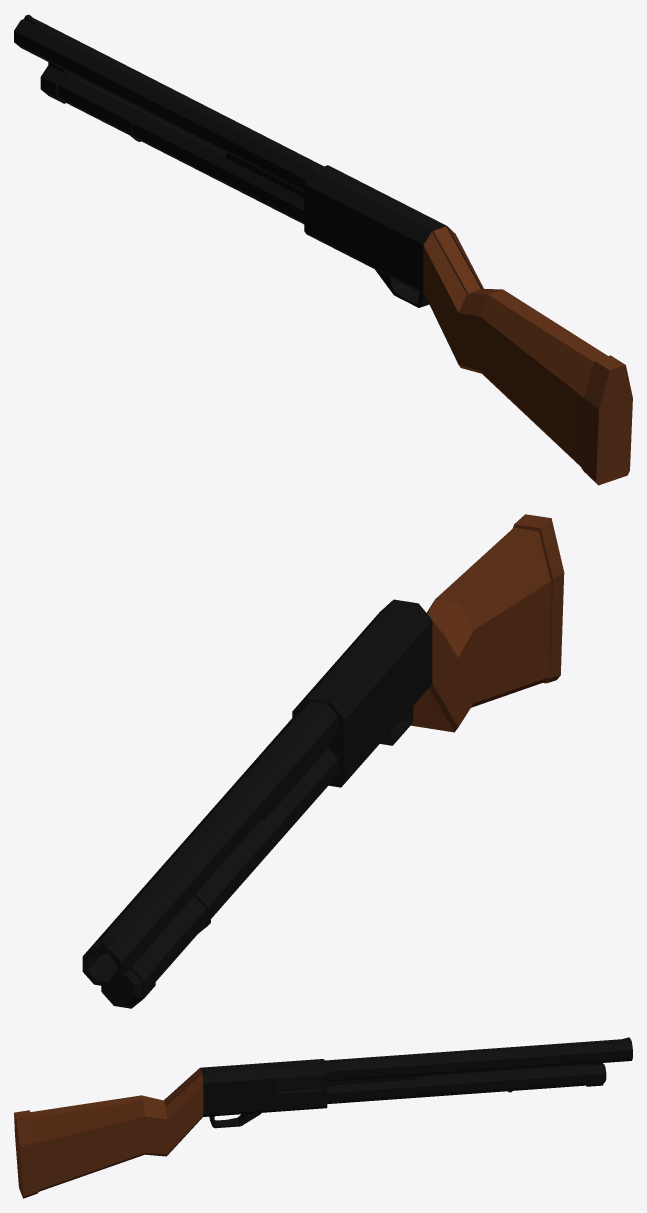
File: SHOTGUN.obj
3 views of the same model, one above another, from view 1: azimuth 30°, elevation 25°; view 2: azimuth 150°, elevation 25°; view 3: azimuth 270°, elevation 25° (orthographic). The views are drawn at different scales.
Visible parts, largest first — view 1: Cuerpo; view 2: Cuerpo; view 3: Cuerpo.
Boxes of the visible parts, x1,y1,x2,y2 form: Cuerpo: (14, 14, 632, 485); Cuerpo: (82, 514, 564, 1008); Cuerpo: (14, 1037, 632, 1198).
Size of the model in its own units: 0.228 by 0.2194 by 1.1.
